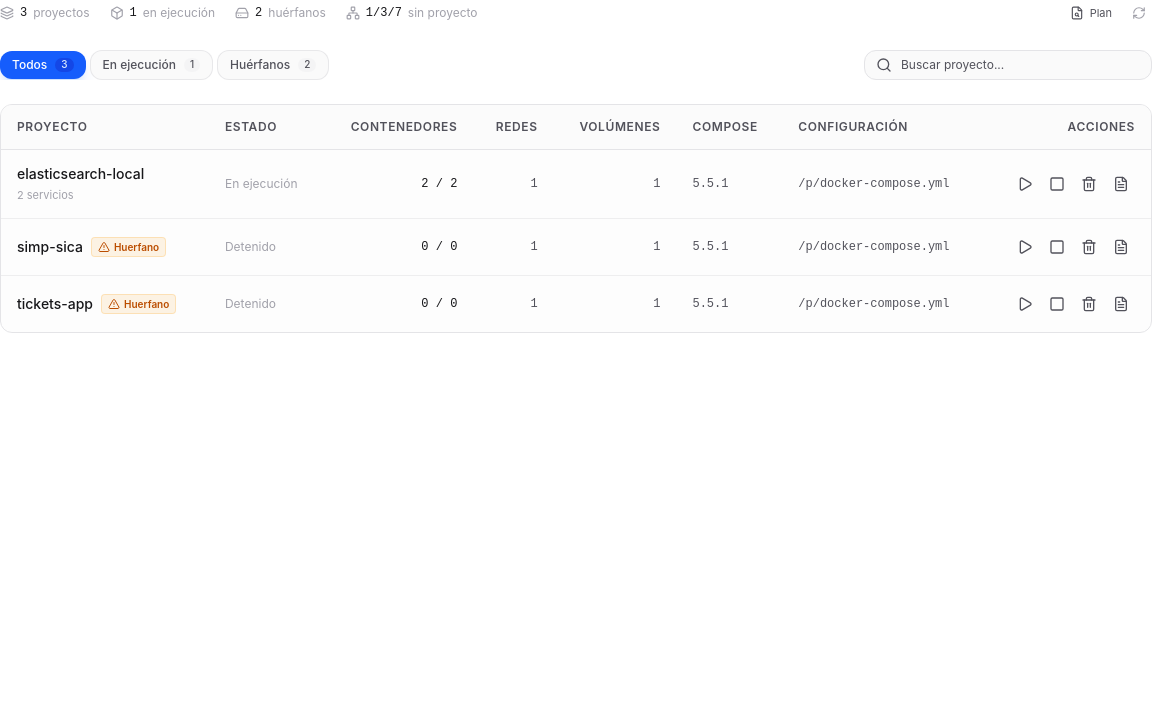
Test: ProjectsView › abre el detalle de un proyecto
Expected: the element with test id "projects-table" is shown, [0, 104, 1151, 333]
Step 1. Click the text "simp-sica" → x=50, y=247, box [17, 237, 83, 257]
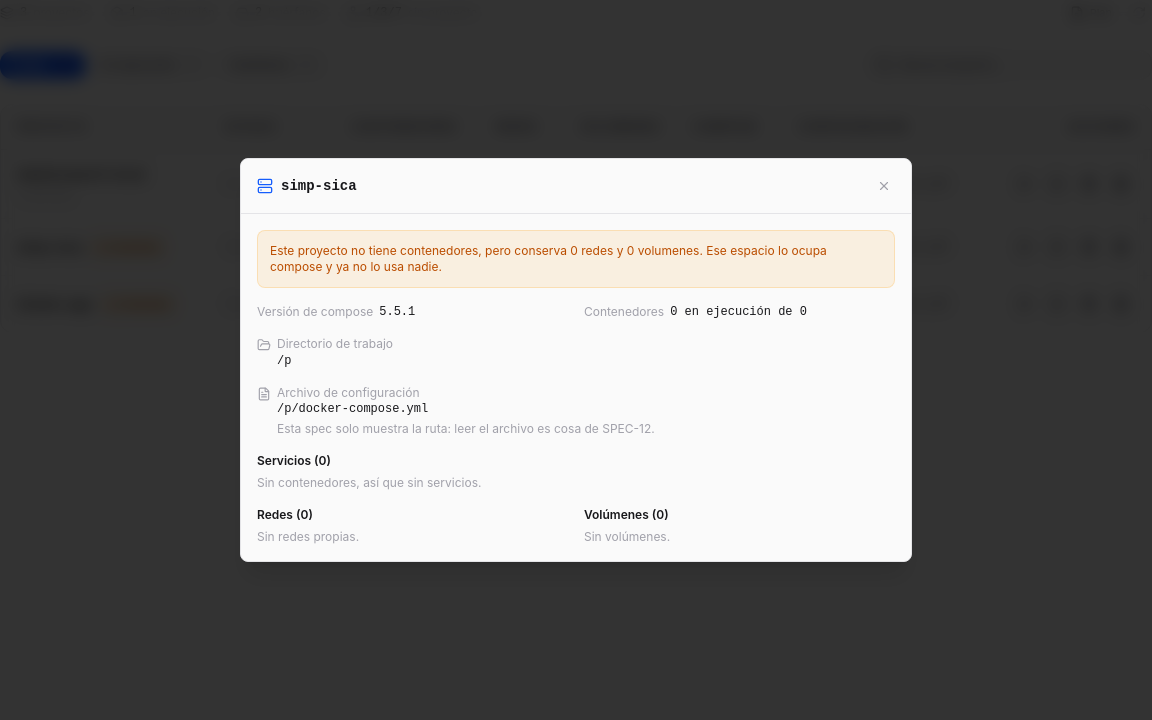
Expected: the dialog with test id "project-detail-modal" is shown, [240, 158, 912, 562]
Expected: the dialog with test id "project-detail-modal" shows "simp-sica", [281, 178, 357, 194]
